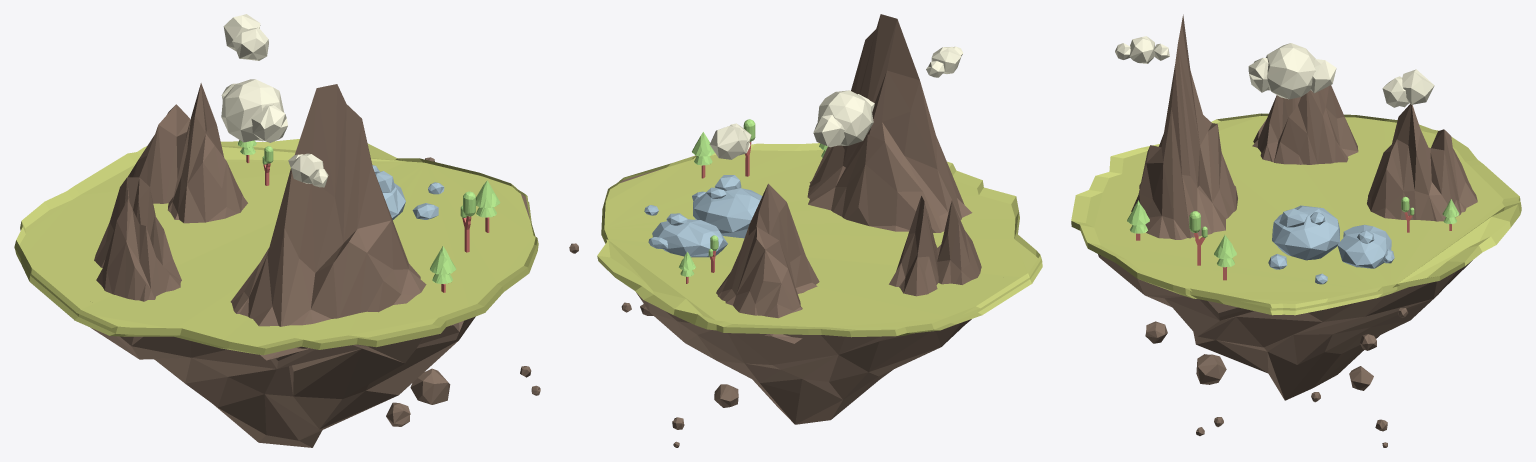
The model's file is Terrain.fbx.
3 renders of one model, left to right at view 1: azimuth 30°, elevation 25°; view 2: azimuth 150°, elevation 25°; view 3: azimuth 270°, elevation 25°, orthographic. The views are drawn at different scales.
Parts seen in each view (by area): view 1: 球体_1, 地形, 地形_2, 地形_1, 球体_10_4, 球体_18, 球体_9_2, 球体, 球体_10_3, 球体_10_2; view 2: 球体_1, 地形, 地形_2, 地形_1, 球体_3_3, 球体_2, 球体_10_4, 球体_10_2, 球体_11_3, 球体_10_3, 球体_10; view 3: 球体_1, 地形, 地形_2, 地形_1, 球体_3_3, 球体_10_4, 球体_2, 球体_10_2, 球体_18, 球体_11_3, 球体_10_3, 球体 (+1 smaller).
Boxes of the visible parts, <box> form: 球体_1: <box>14,139,538,447</box>; 地形: <box>230,84,426,360</box>; 地形_2: <box>128,83,247,223</box>; 地形_1: <box>94,177,181,301</box>; 球体_10_4: <box>221,79,284,142</box>; 球体_18: <box>410,368,450,404</box>; 球体_9_2: <box>251,104,287,142</box>; 球体: <box>232,27,268,60</box>; 球体_10_3: <box>291,153,323,183</box>; 球体_10_2: <box>223,14,260,51</box>; 球体_1: <box>597,143,1042,424</box>; 地形: <box>807,14,972,232</box>; 地形_2: <box>716,183,819,343</box>; 地形_1: <box>889,196,981,296</box>; 球体_3_3: <box>693,188,762,238</box>; 球体_2: <box>652,219,727,257</box>; 球体_10_4: <box>817,90,873,145</box>; 球体_10_2: <box>709,126,746,159</box>; 球体_11_3: <box>813,115,844,147</box>; 球体_10_3: <box>931,47,961,73</box>; 球体_10: <box>714,384,738,407</box>; 球体_1: <box>1071,113,1521,400</box>; 地形: <box>1131,14,1237,239</box>; 地形_2: <box>1367,104,1477,221</box>; 地形_1: <box>1252,85,1358,164</box>; 球体_3_3: <box>1272,205,1339,260</box>; 球体_10_4: <box>1266,43,1315,99</box>; 球体_2: <box>1337,224,1391,268</box>; 球体_10_2: <box>1402,69,1434,104</box>; 球体_18: <box>1196,354,1226,384</box>; 球体_11_3: <box>1310,59,1336,93</box>; 球体_10_3: <box>1129,36,1154,63</box>; 球体: <box>1382,76,1408,107</box>.
Bounding box in the file's own units: 2796 × 2500 × 2707.
